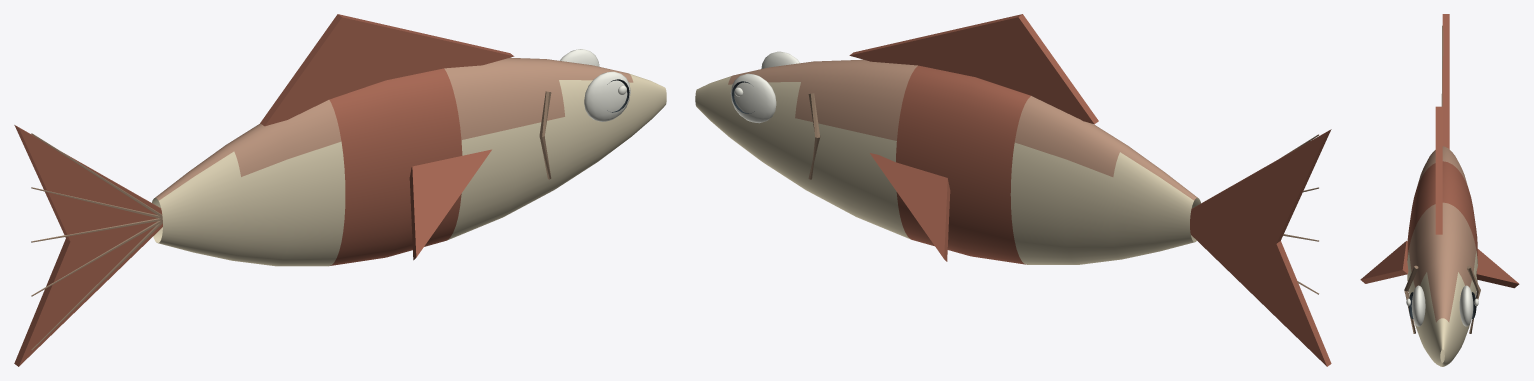
Rendered from ReefFish.fbx.
3 renders of one model, left to right at view 1: azimuth 30°, elevation 25°; view 2: azimuth 150°, elevation 25°; view 3: azimuth 270°, elevation 25°, orthographic. The views are drawn at different scales.
Parts seen in each view (by area): view 1: SM_ReefFish; view 2: SM_ReefFish; view 3: SM_ReefFish.
Part boxes in pixels (<box>): SM_ReefFish: <box>14,14,666,366</box>; SM_ReefFish: <box>695,14,1331,366</box>; SM_ReefFish: <box>1360,14,1519,366</box>.
Size of the model in its own units: 0.75 by 0.305 by 0.2067.
